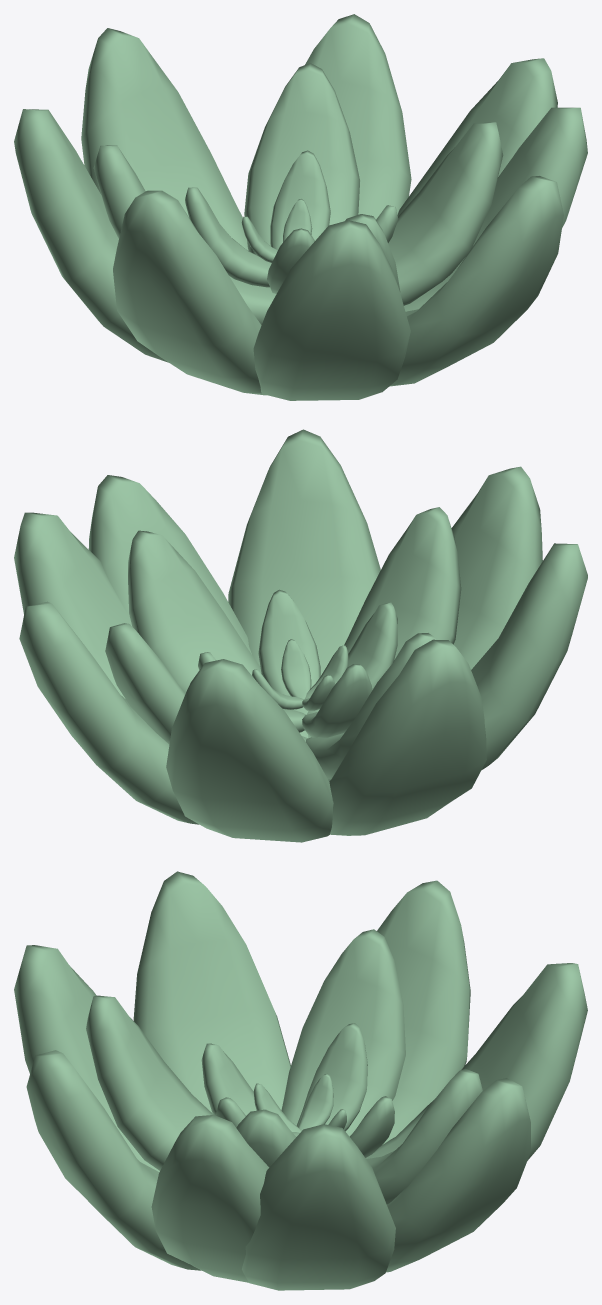
The model's file is Aloe.fbx.
3 views of the same model, one above another, from view 1: azimuth 30°, elevation 25°; view 2: azimuth 150°, elevation 25°; view 3: azimuth 270°, elevation 25° (orthographic). The views are drawn at different scales.
Parts seen in each view (by area): view 1: heartFruit:aloeLeaf30; view 2: heartFruit:aloeLeaf30; view 3: heartFruit:aloeLeaf30.
Boxes of the visible parts, bbox=[...] form: heartFruit:aloeLeaf30: bbox=[14, 14, 587, 400]; heartFruit:aloeLeaf30: bbox=[14, 429, 587, 842]; heartFruit:aloeLeaf30: bbox=[14, 871, 587, 1290].
Size of the model in its own units: 1.83 by 0.9558 by 1.84.
